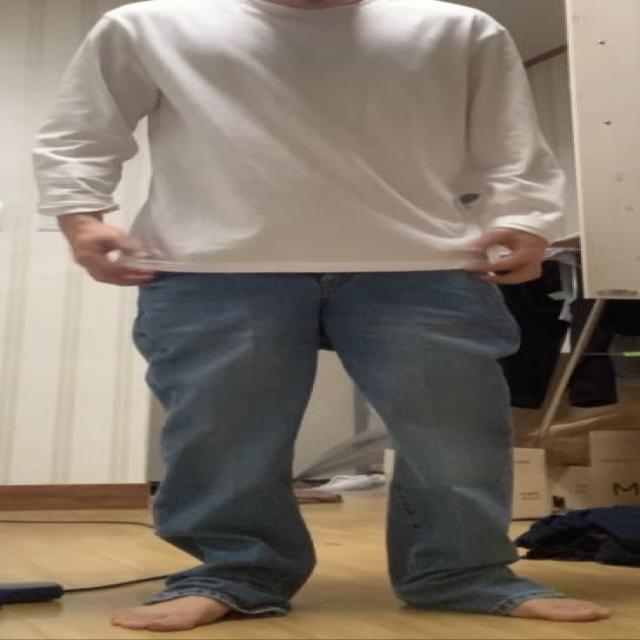denimpants: (137, 267, 567, 617)
longsleeve: (37, 0, 569, 272)
